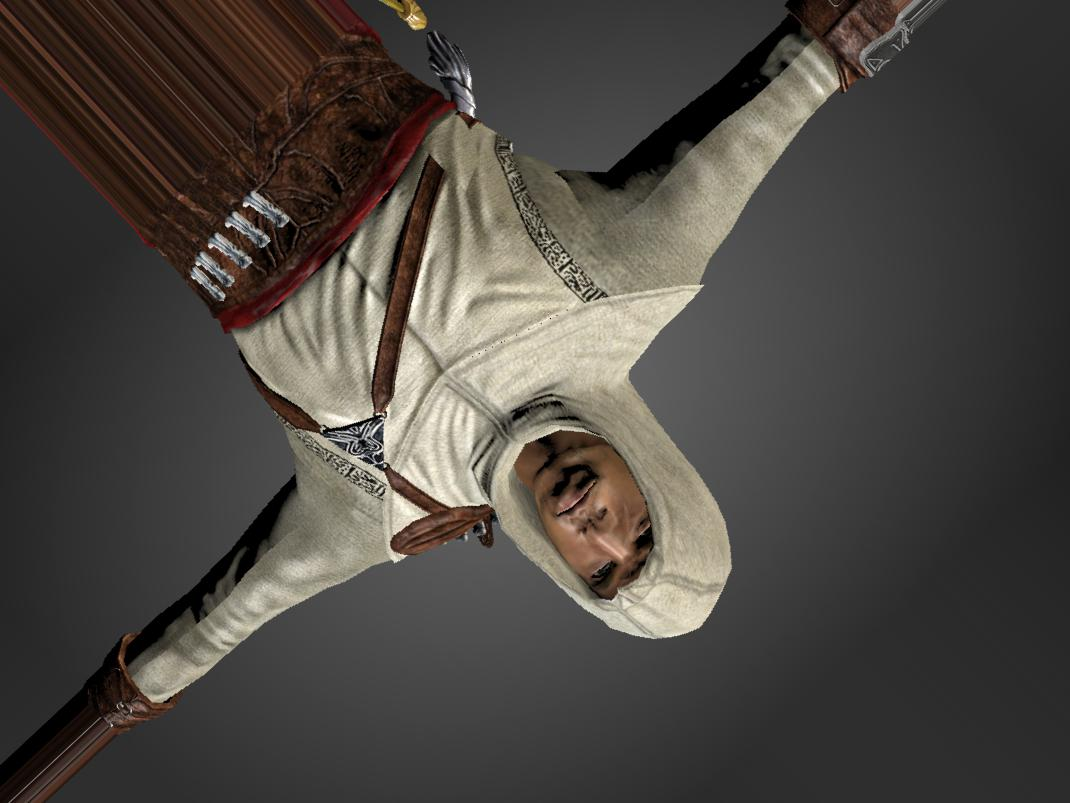clip: (411, 110, 488, 175)
